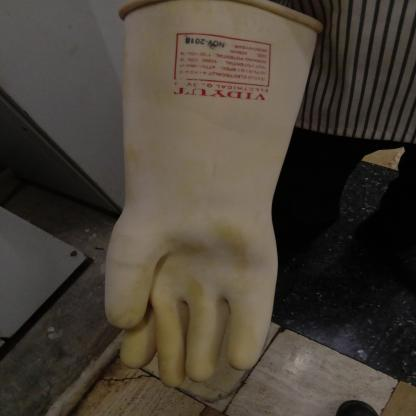gloved_hand: (89, 0, 324, 389)
